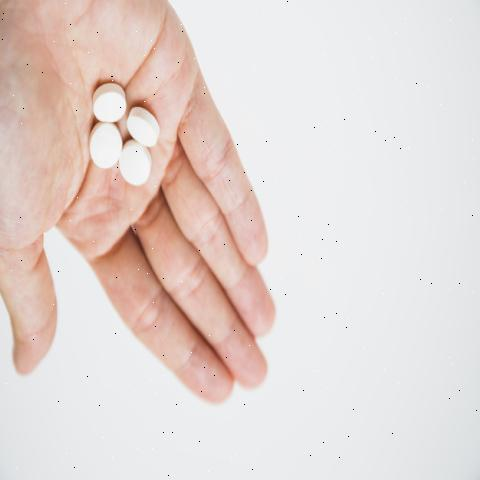Pill: (120, 139, 161, 191), (84, 123, 128, 167), (128, 100, 169, 145), (91, 82, 130, 122)
